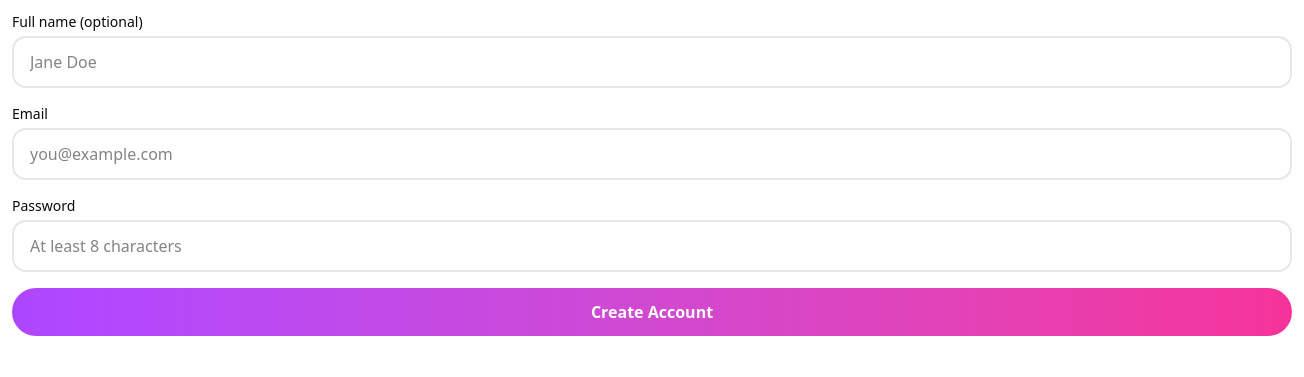
Test: RegisterForm › shows a validation error when the password is shorter than 8 characters
Type "jane@example.com" into the field with placeholder "you@example.com".
click(652, 154); type("jane@example.com")  # box 12,128 -> 1292,180
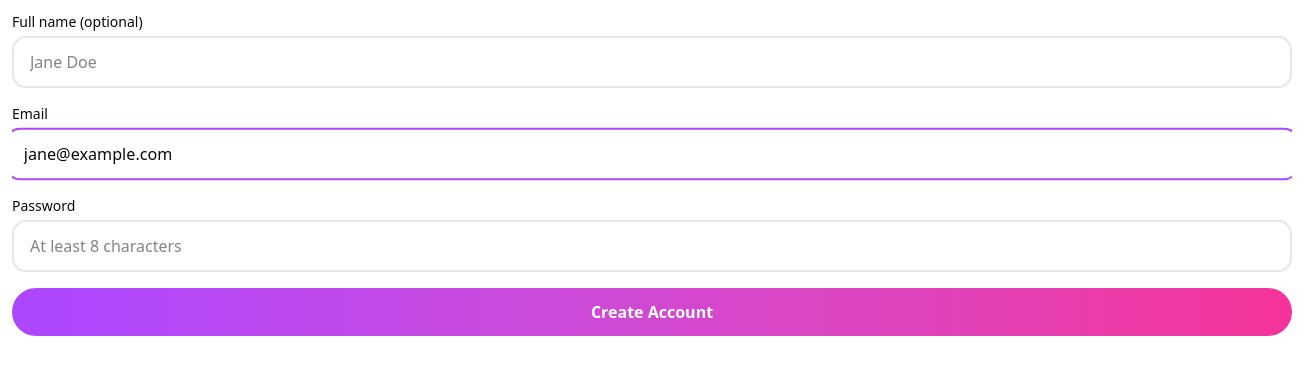
Type "short" into the password field with placeholder "At least 8 characters".
click(652, 246); type("short")  # box 12,220 -> 1292,272
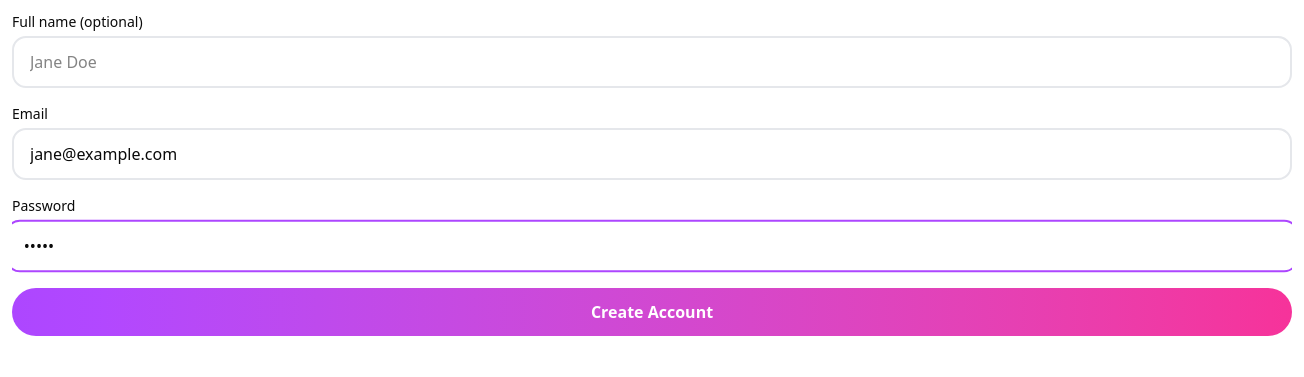
Click the button "Create Account".
click(652, 312)  # box 12,288 -> 1292,336
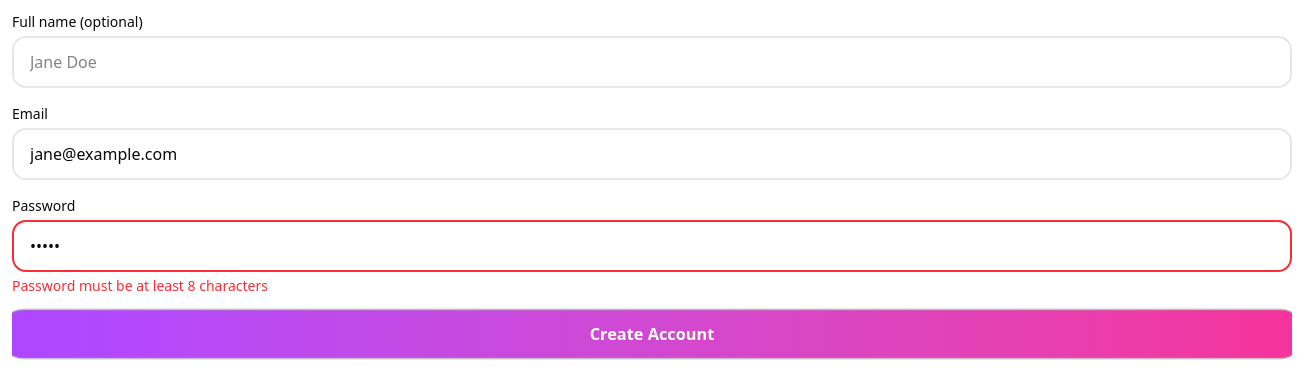
Check: the text "Password must be at least 8 characters" is shown, box 12,276 -> 268,295
